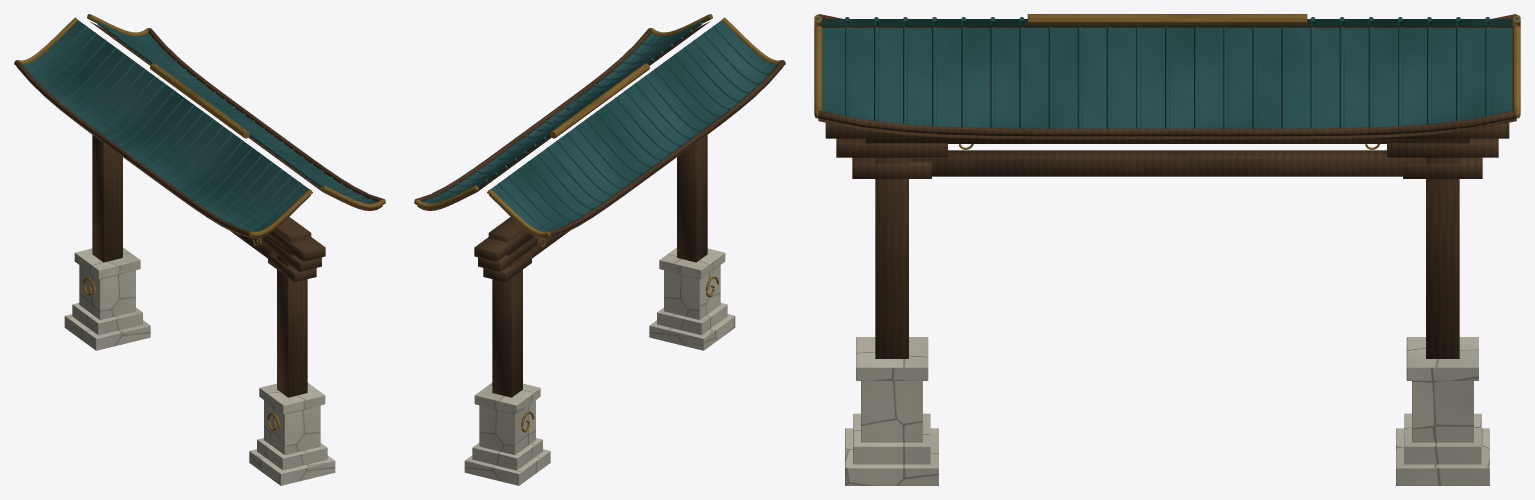
The model's file is a02_gateway.fbx.
3 renders of one model, left to right at view 1: azimuth 30°, elevation 25°; view 2: azimuth 150°, elevation 25°; view 3: azimuth 270°, elevation 25°, orthographic. The views are drawn at different scales.
Parts seen in each view (by area): view 1: a02_gateway.003; view 2: a02_gateway.003; view 3: a02_gateway.003.
Boxes of the visible parts, x1,y1,x2,y2 form: a02_gateway.003: (14, 14, 385, 485); a02_gateway.003: (414, 14, 785, 485); a02_gateway.003: (814, 14, 1520, 485).
Size of the model in its own units: 84160 by 28160 by 59380.
